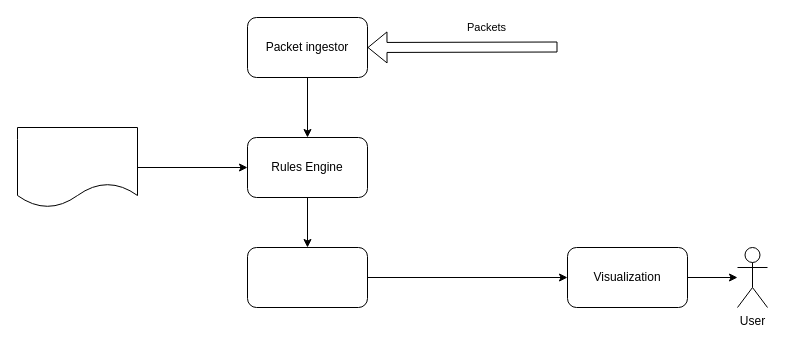
Some shapes in this 785 by 346 pixel diagram are drawn without their labels. The shapes that lost their labels are listed below. From the top down, each one's centre as x and y in pixels, then its label:
the point at 77,167: Rules Files
the point at 307,277: Alert Generator
